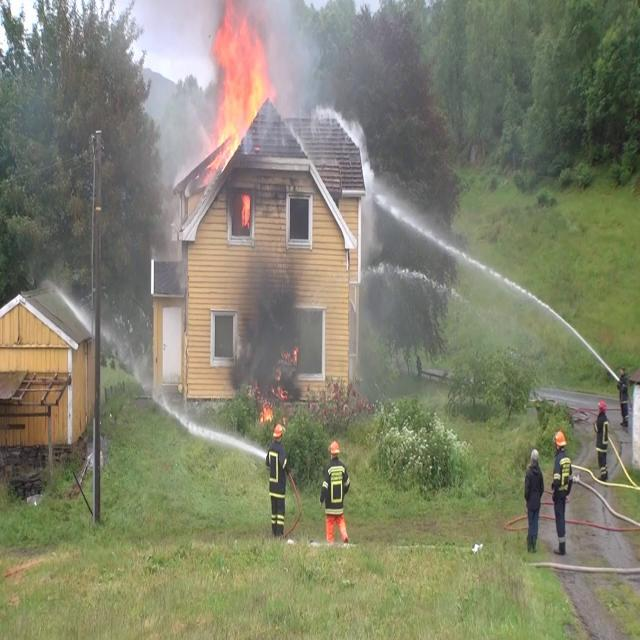Fire: (205, 7, 271, 165)
Smoke: (230, 247, 306, 408)
